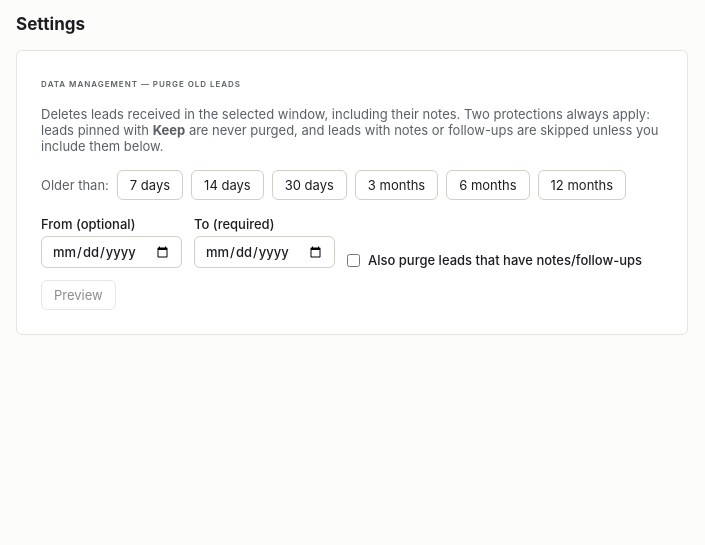
Test: SettingsPage quick presets › populates the From box from the matched span when leads match
Click the button "12 months" at (582, 185), box [538, 170, 626, 200]
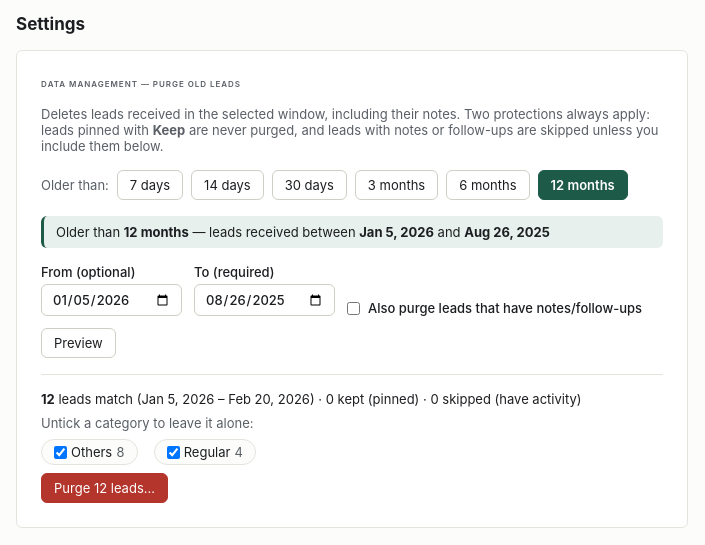
Expected: the button "Purge 12 leads…" is shown, [41, 473, 168, 503]
Expected: the date field labelled "From (optional)" holds "2026-01-05", [41, 284, 182, 316]
Expected: the checkbox labelled "Others 8" is shown, [54, 446, 67, 458]
